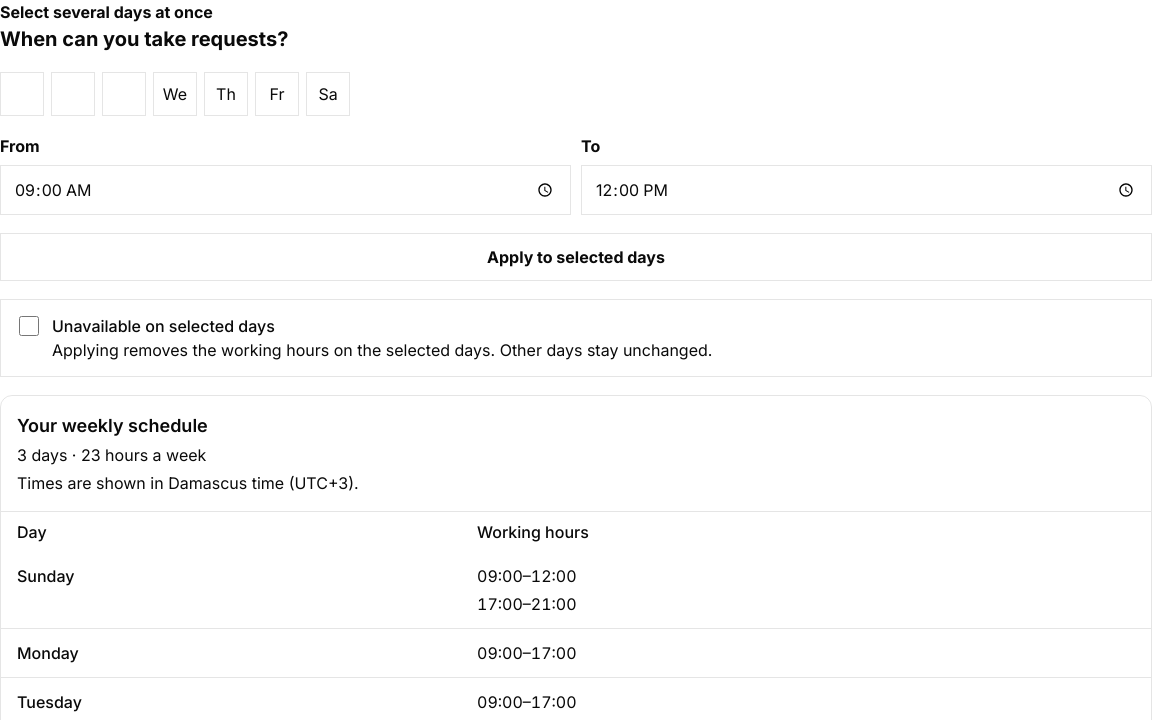
it: G-04 — applying must not quietly discard what it was not asked about › warns before replacing a second window on a day that stays selected
Click the button with test id "apply-to-selected": click(576, 257) [0,233,1151,281]
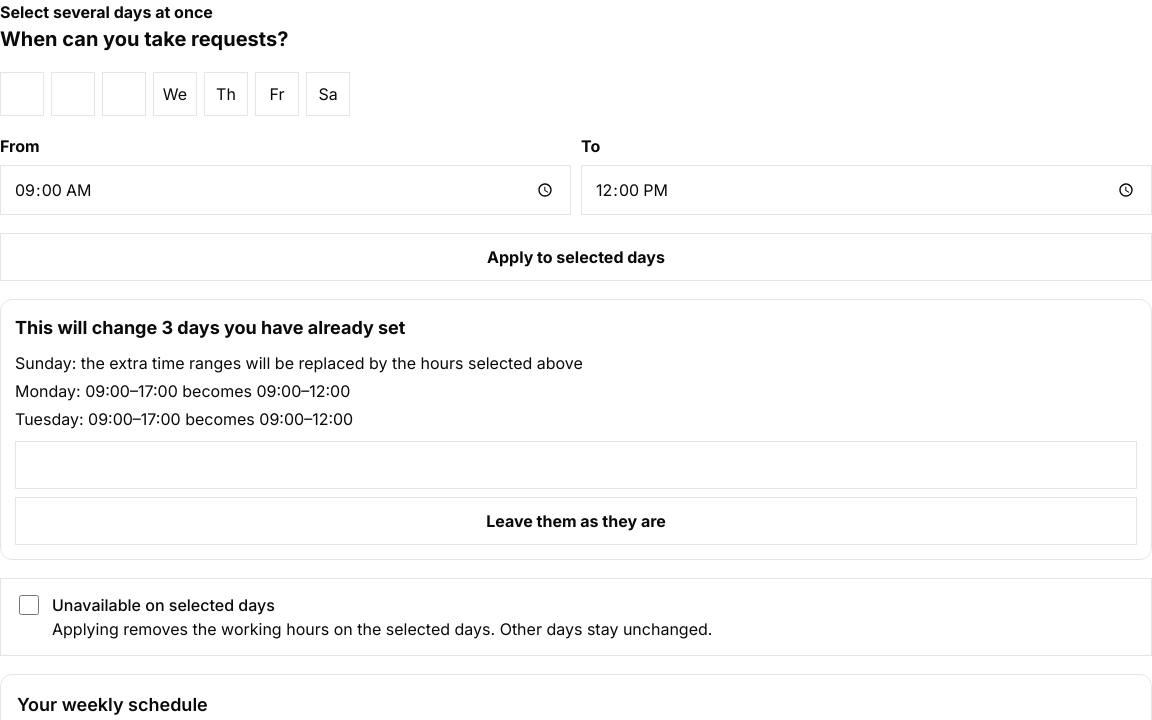
Expected: the dialog with test id "apply-discards" is shown, [0,299,1151,560]
